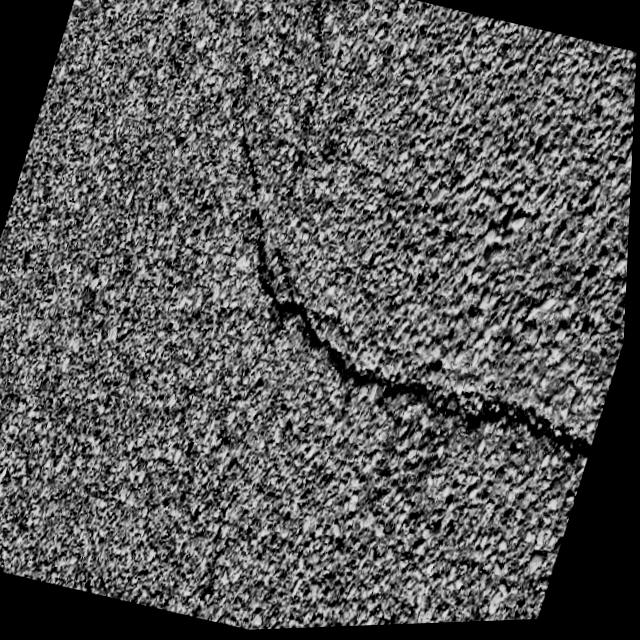cracks: (242, 210, 596, 464)
